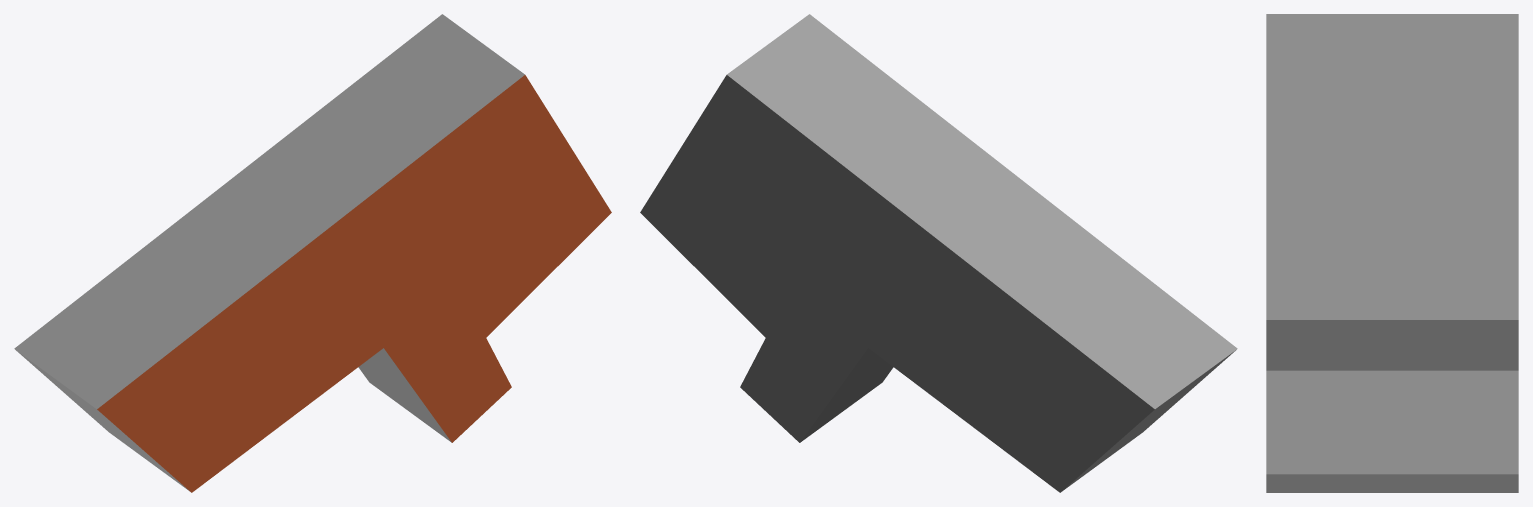
Rendered from construction_6618_assumed_A_Casa_h6m.obj.
3 views of the same model, side by side, from view 1: azimuth 30°, elevation 25°; view 2: azimuth 150°, elevation 25°; view 3: azimuth 270°, elevation 25° (orthographic). The views are drawn at different scales.
Parts seen in each view (by area): view 1: construction_6618_assumed_A_Casa; view 2: construction_6618_assumed_A_Casa; view 3: construction_6618_assumed_A_Casa.
Part boxes in pixels (x1,y1,x2,y2): construction_6618_assumed_A_Casa: (14, 14, 611, 492); construction_6618_assumed_A_Casa: (640, 14, 1237, 492); construction_6618_assumed_A_Casa: (1266, 14, 1518, 492).
Size of the model in its own units: 21.52 by 14.01 by 6.
